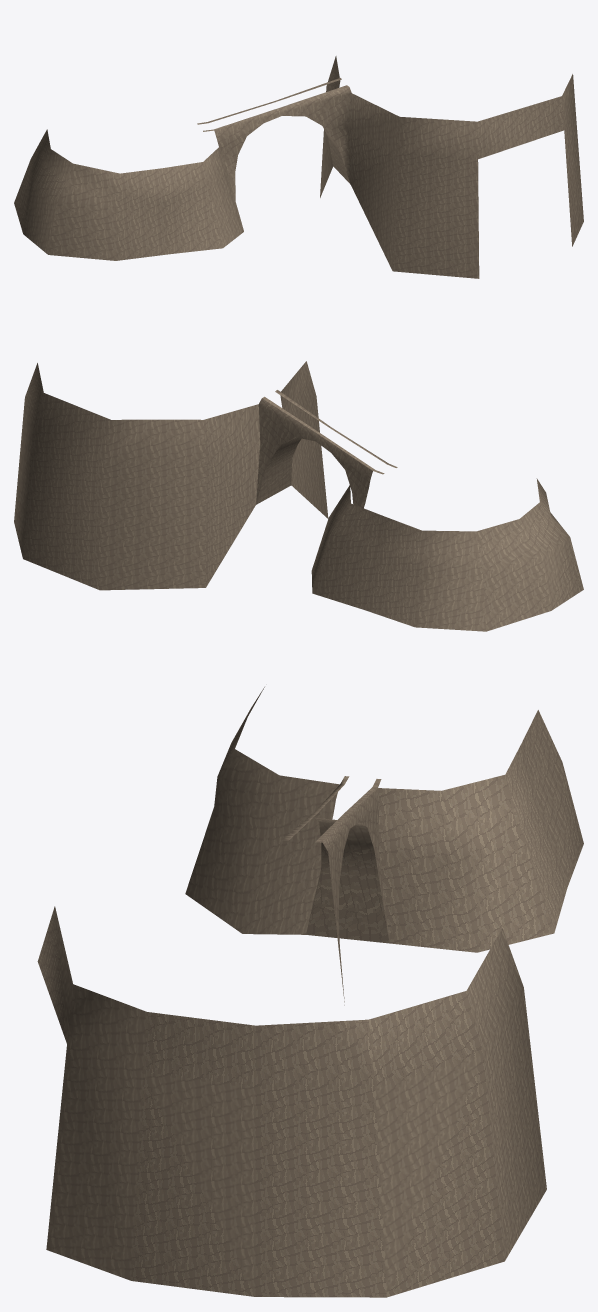
Rendered from kd_connection_world-inner_surface_0_3.glb.
3 renders of one model, top to bottom at view 1: azimuth 30°, elevation 25°; view 2: azimuth 150°, elevation 25°; view 3: azimuth 270°, elevation 25°, orthographic. The views are drawn at different scales.
Parts seen in each view (by area): view 1: kd_connection_world-inner_surface_0_3; view 2: kd_connection_world-inner_surface_0_3; view 3: kd_connection_world-inner_surface_0_3.
Part boxes in pixels (bbox=[...]): kd_connection_world-inner_surface_0_3: bbox=[14, 56, 583, 278]; kd_connection_world-inner_surface_0_3: bbox=[14, 361, 583, 631]; kd_connection_world-inner_surface_0_3: bbox=[37, 687, 583, 1297].
Bounding box in the file's own units: 270 × 77.5 × 147.
1 material, 1 textured.
